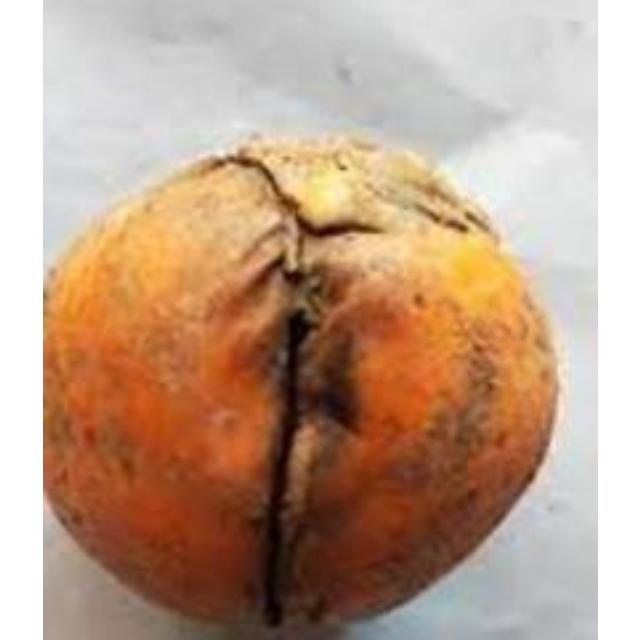damaged: (42, 135, 565, 637)
